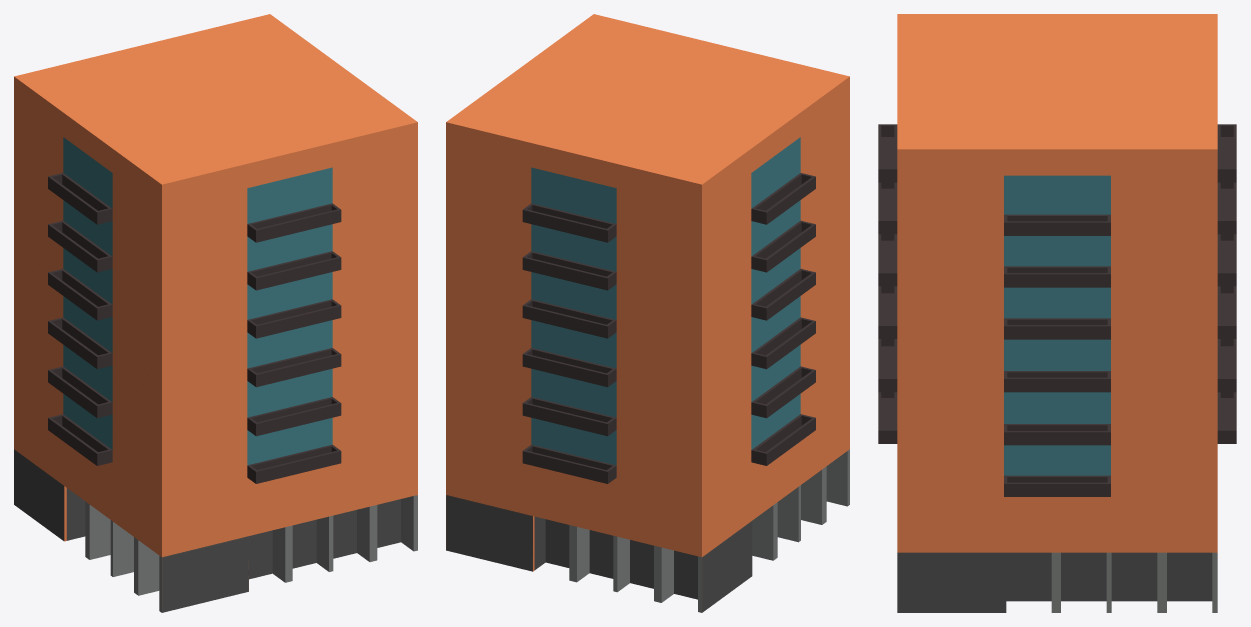
File: Edificio_Portales 1.fbx
The picture shows the model from 3 angles, left to right: view 1: azimuth 30°, elevation 25°; view 2: azimuth 150°, elevation 25°; view 3: azimuth 270°, elevation 25°; orthographic projection. The views are drawn at different scales.
Visible parts, largest first — view 1: 144_residential building facade.001; view 2: 144_residential building facade.001; view 3: 144_residential building facade.001.
Part boxes in pixels (x1=…): 144_residential building facade.001: x1=14, y1=14, x2=417, y2=612; 144_residential building facade.001: x1=446, y1=14, x2=849, y2=612; 144_residential building facade.001: x1=878, y1=14, x2=1236, y2=612.
Size of the model in its own units: 4210 by 6006 by 4210.
1 material, 1 textured.
